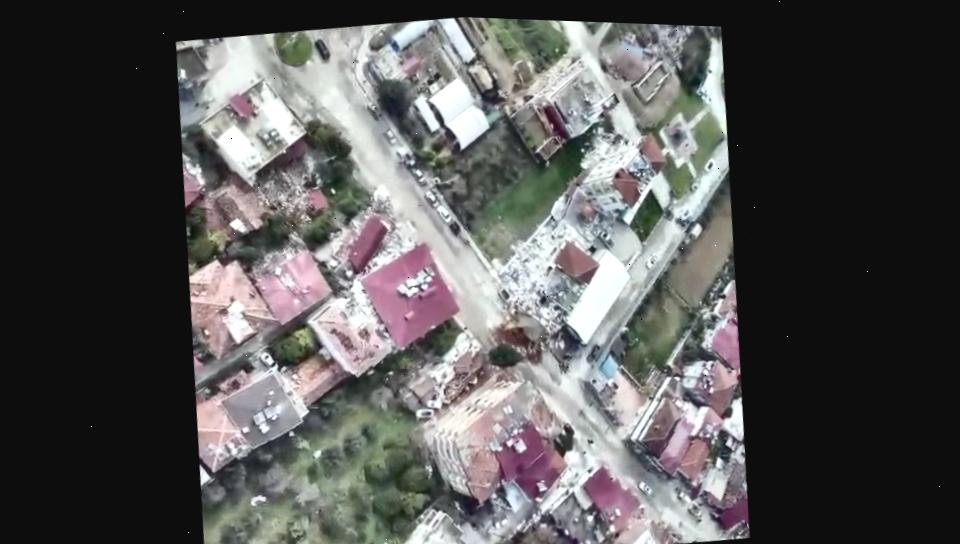kapali: (457, 277, 559, 391)
